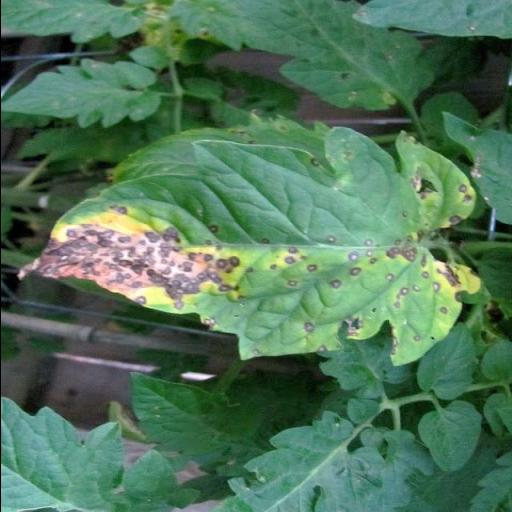Healthy: (416, 401, 482, 473)
Septoria: (15, 126, 481, 374)
